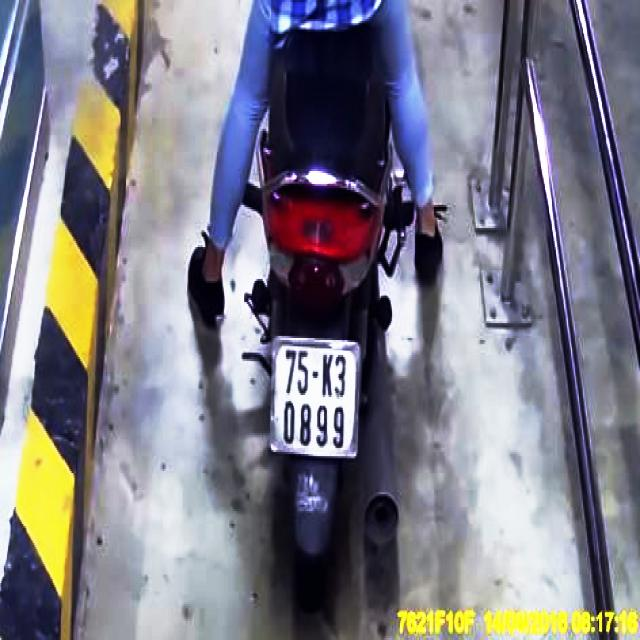license_plate: (274, 339, 358, 454)
